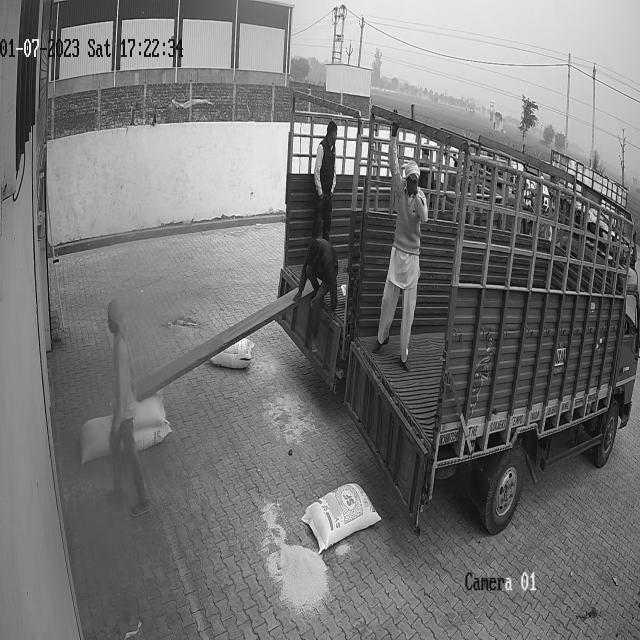sack: (302, 482, 381, 552), (79, 414, 112, 465), (210, 338, 254, 370), (130, 421, 172, 450), (131, 395, 165, 428)
